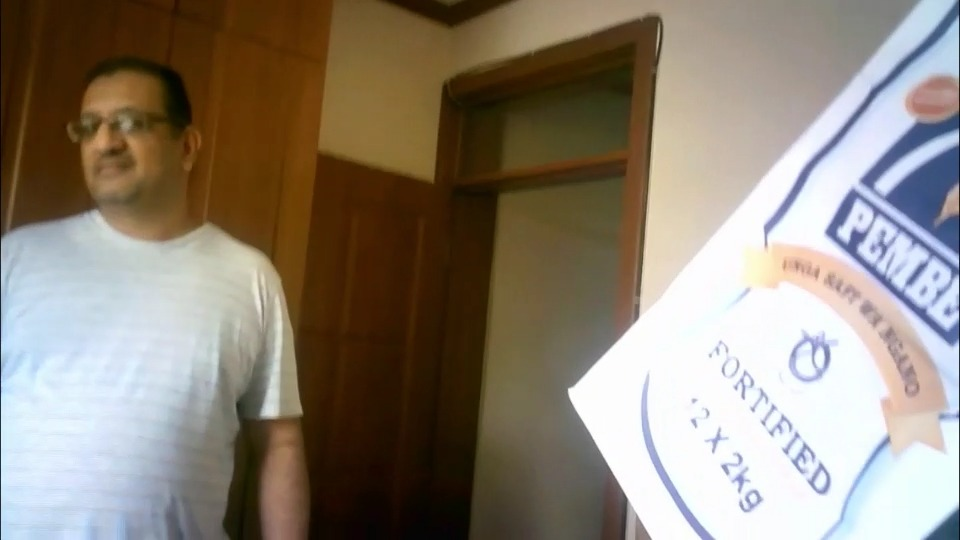wheat_flour_blue_label: (566, 2, 960, 537)
